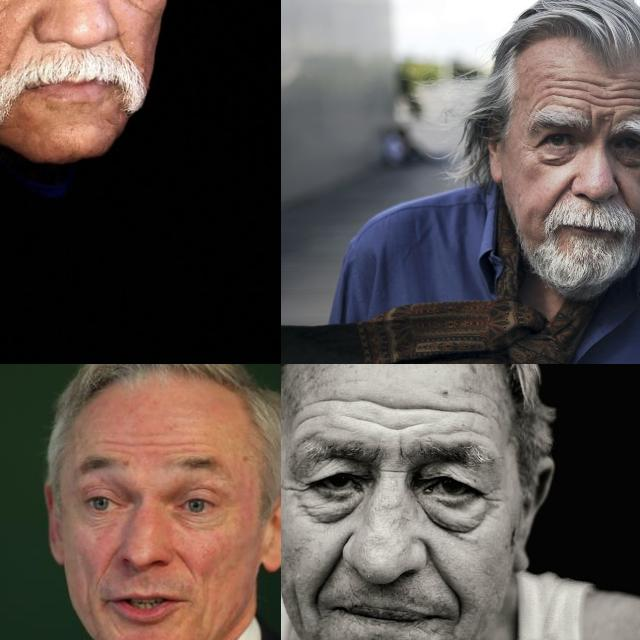chin: (107, 617, 124, 640)
crows_feet: (285, 477, 311, 499), (482, 491, 502, 511), (520, 136, 536, 158)
forehead: (334, 392, 490, 428), (548, 76, 588, 112), (147, 434, 191, 456), (596, 78, 622, 115), (292, 400, 318, 436), (98, 435, 134, 451), (627, 79, 640, 117)
frown_line: (378, 464, 408, 480), (607, 112, 617, 136), (586, 111, 596, 131)
gummy_smile: (419, 540, 461, 592), (320, 534, 348, 588), (7, 12, 33, 64), (96, 540, 120, 578), (547, 180, 571, 214), (170, 546, 192, 574), (612, 178, 630, 210)
masseter: (120, 0, 159, 20), (286, 582, 302, 628)
sad_smile: (305, 594, 327, 620), (449, 600, 465, 630)
